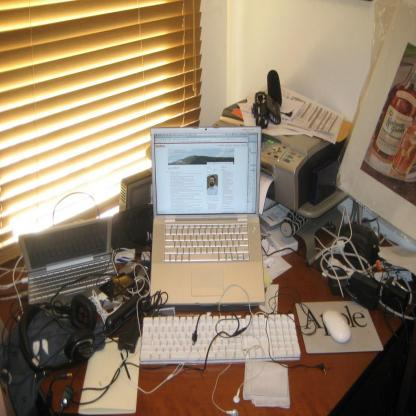board: (144, 126, 266, 324), (19, 217, 118, 303)
